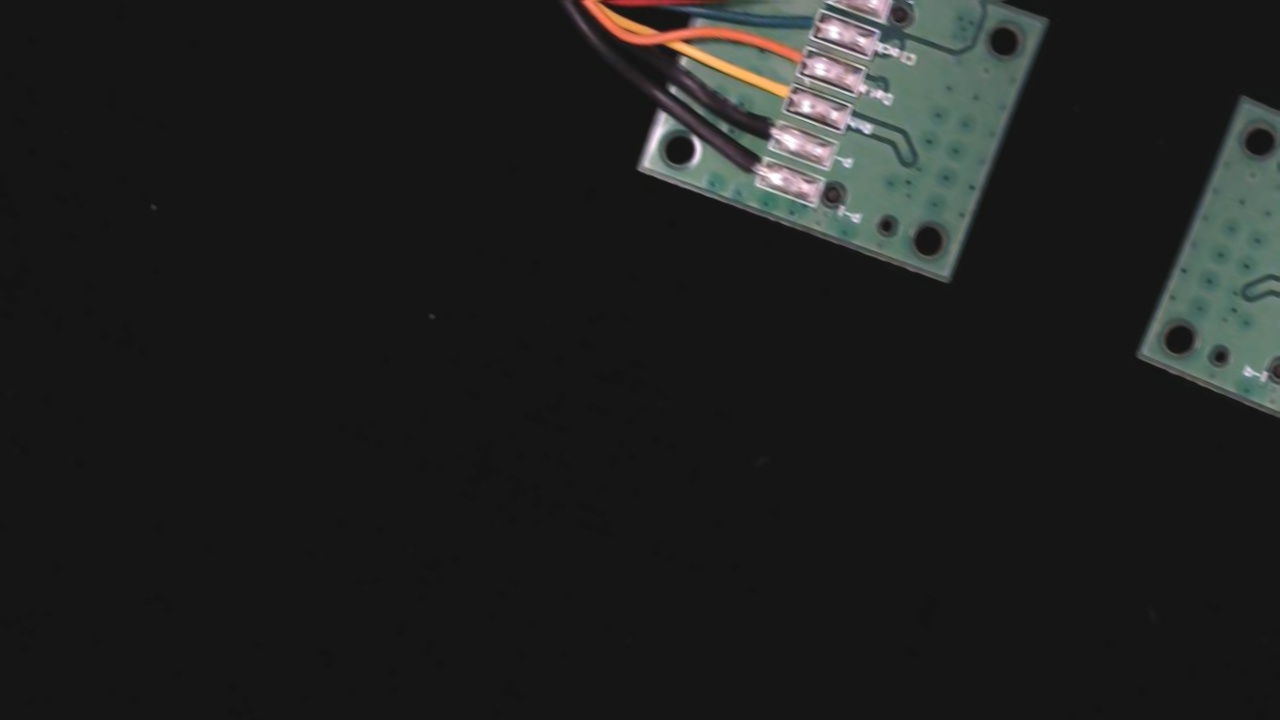Black: (728, 103, 793, 151)
Black1: (714, 138, 779, 189)
Green: (774, 0, 834, 44)
Orange: (757, 31, 821, 77)
Red: (781, 0, 847, 5)
Yellow: (742, 66, 808, 114)
